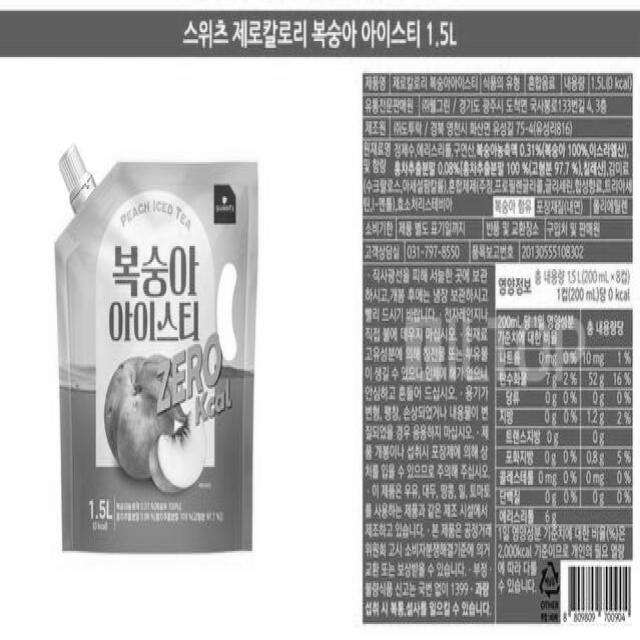Nutrition Label: (492, 257, 634, 559)
